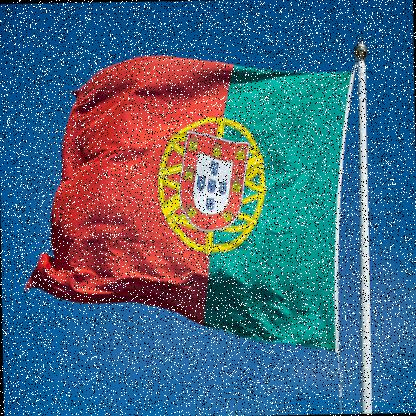pt: (14, 49, 363, 359)
